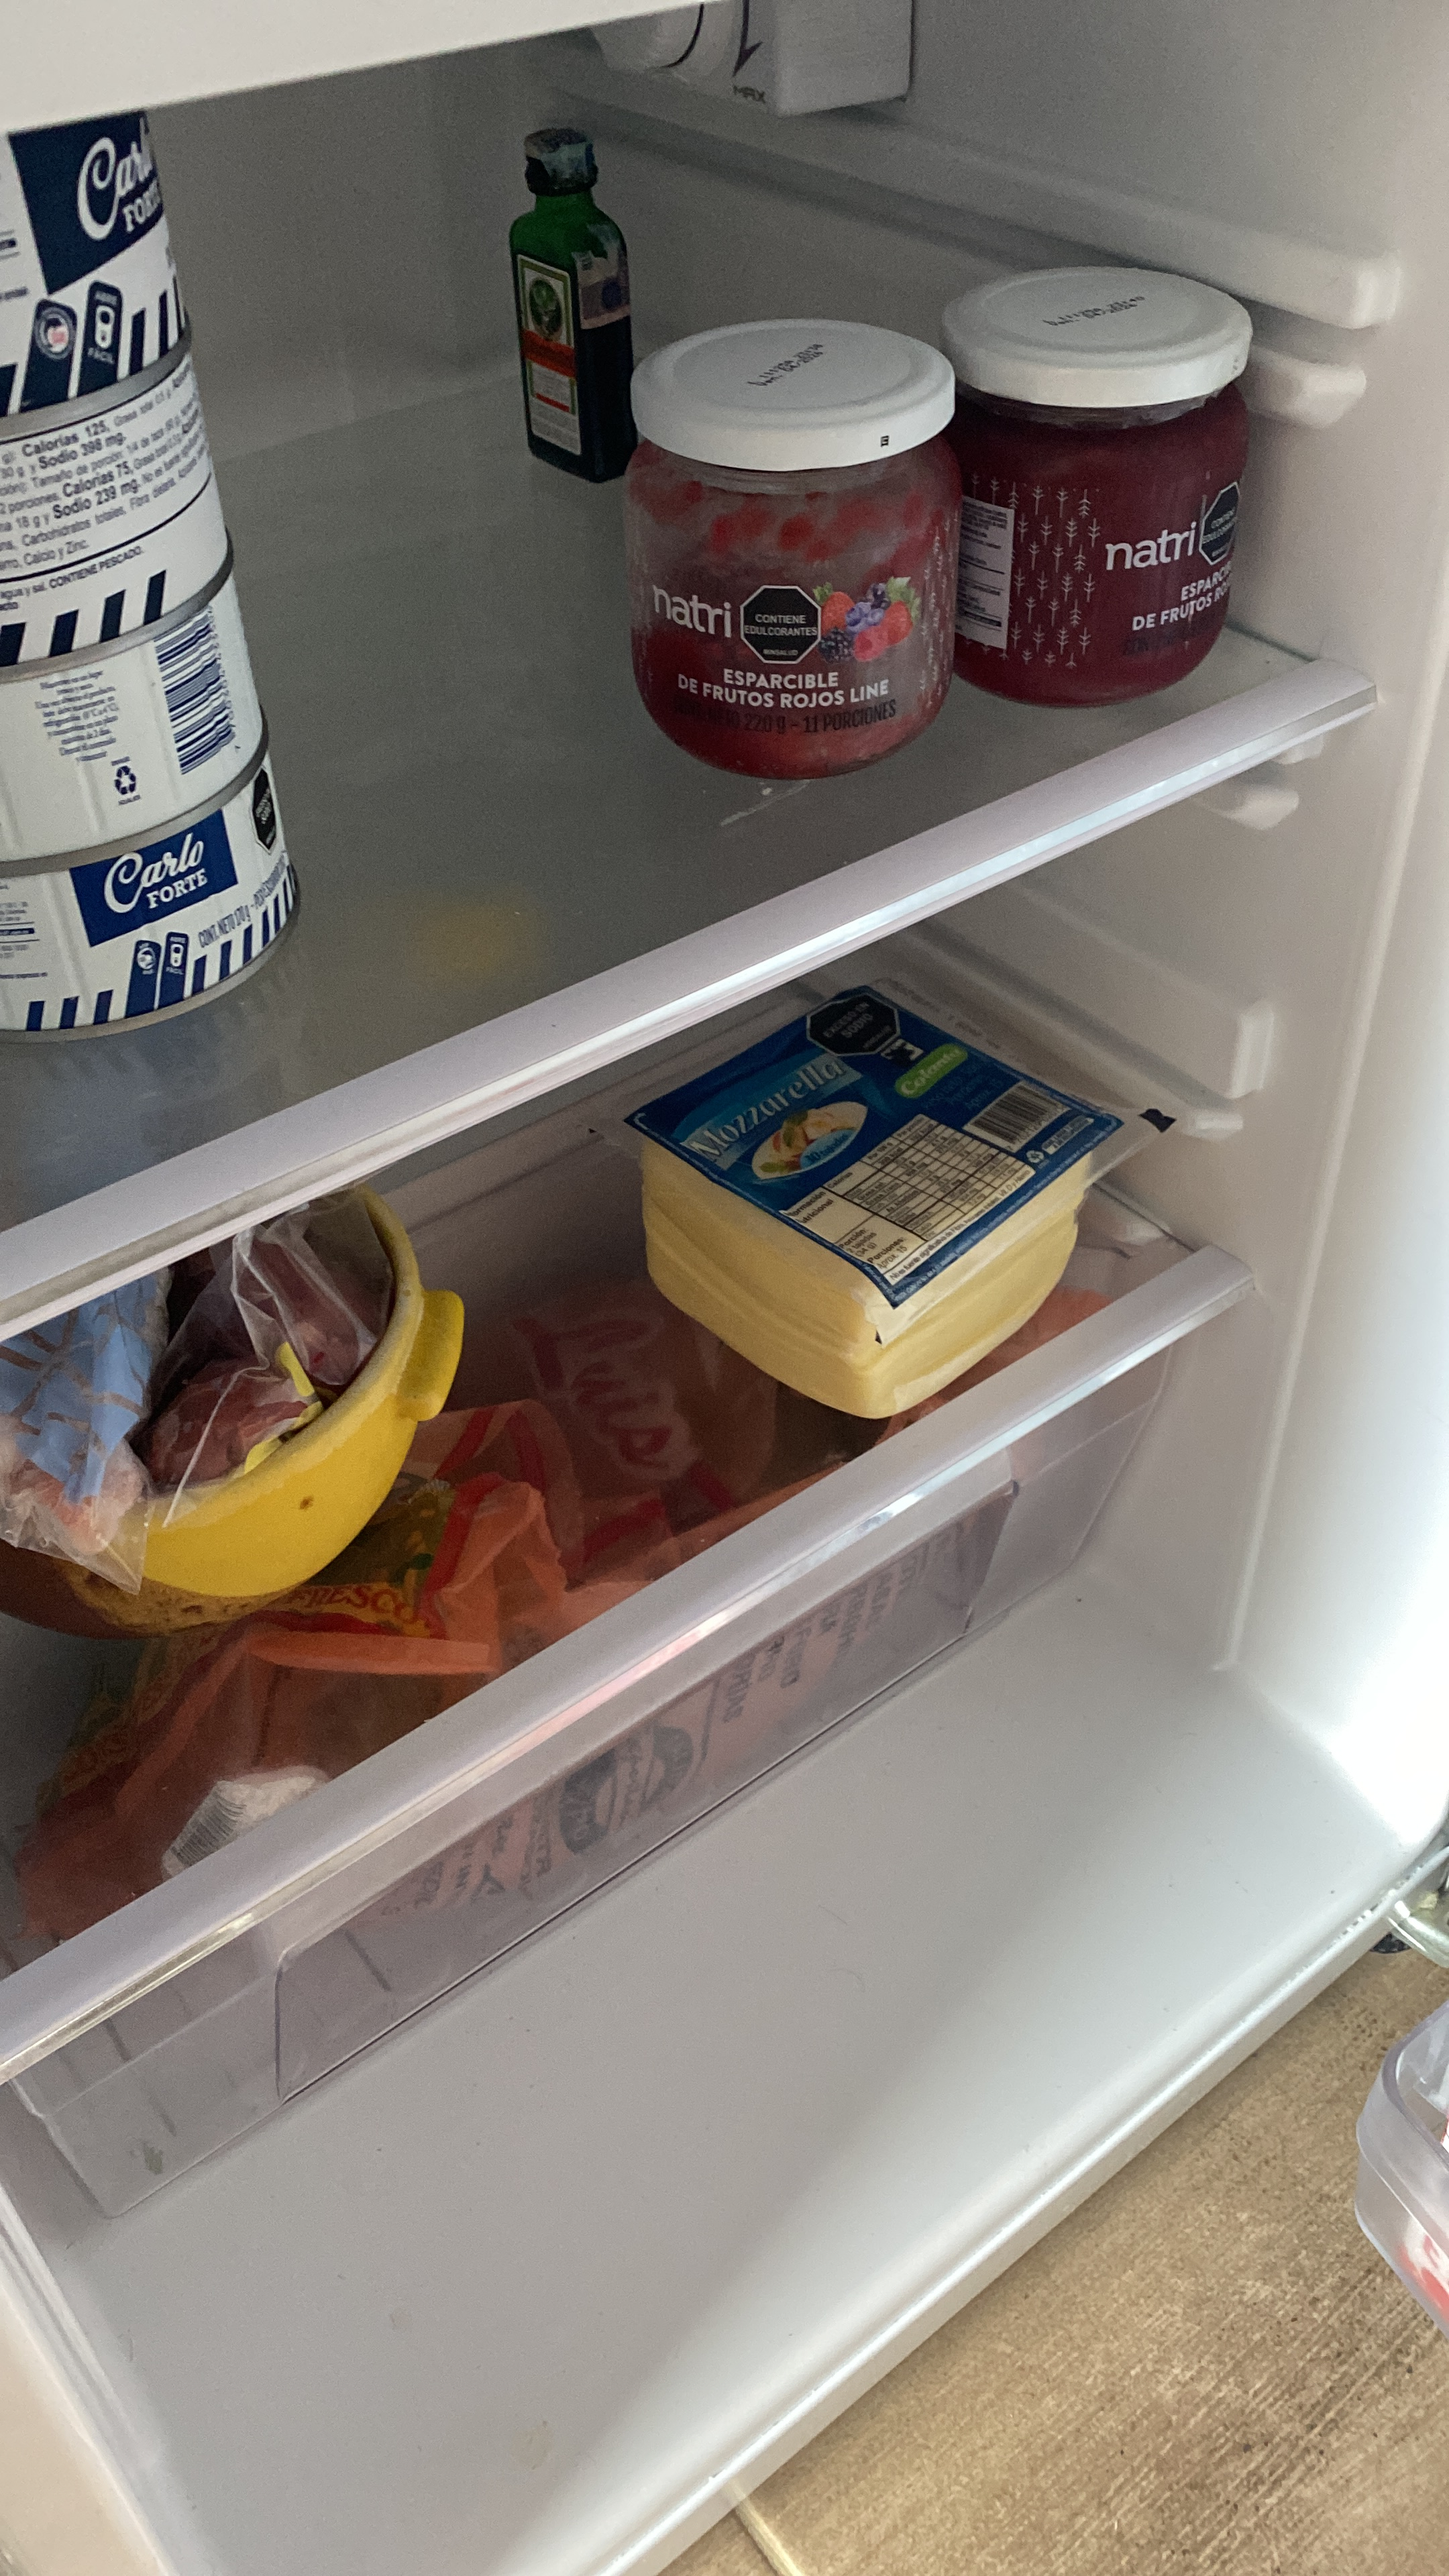Queso Mozzarella: (626, 984, 1166, 1430)
